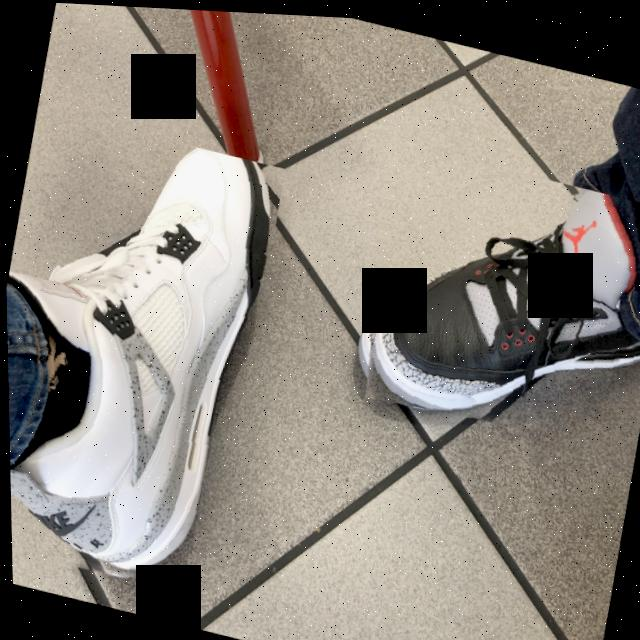shoe: (2, 107, 291, 607), (342, 135, 640, 457)
